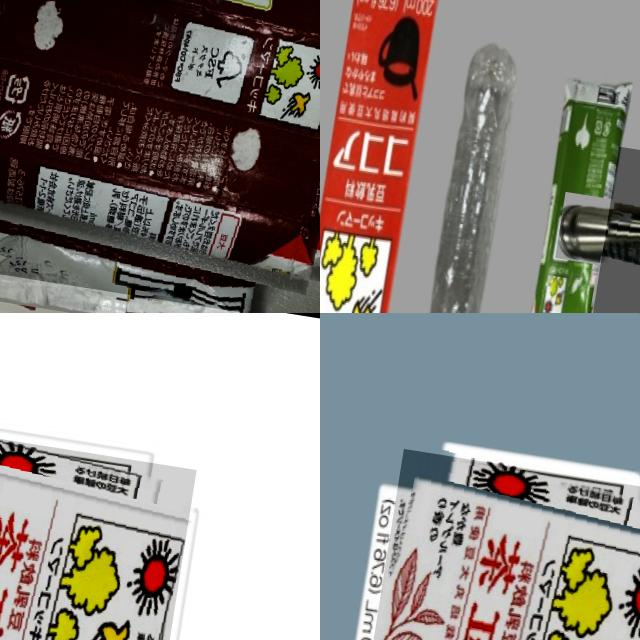Aluminium Foil: (0, 0, 320, 313), (358, 448, 640, 640), (0, 423, 196, 640), (320, 0, 445, 313), (520, 68, 637, 313)
Can: (591, 145, 640, 313)
Transparent Plastic Bottle: (407, 36, 524, 313)
